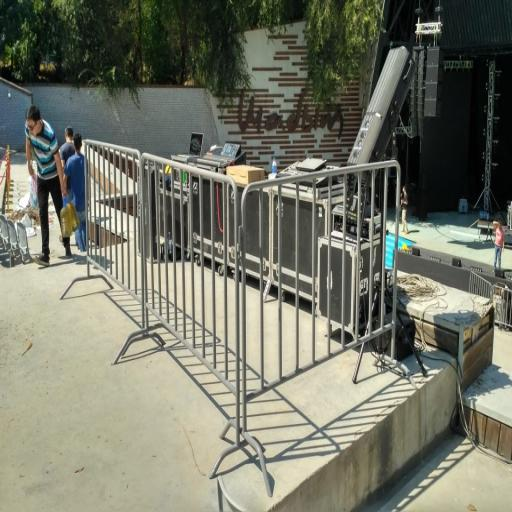chair: (239, 162, 397, 495), (139, 154, 244, 448), (61, 140, 146, 327), (469, 272, 511, 329), (468, 271, 492, 298)
